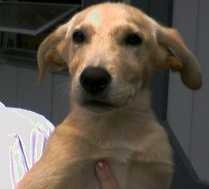dog: (32, 0, 165, 157)
